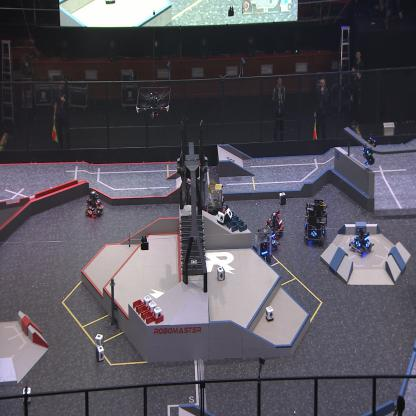car: (184, 174, 210, 219), (303, 196, 327, 244), (251, 224, 272, 267), (207, 180, 228, 219), (349, 226, 373, 256), (265, 209, 284, 242), (84, 189, 104, 220), (264, 228, 281, 255)
